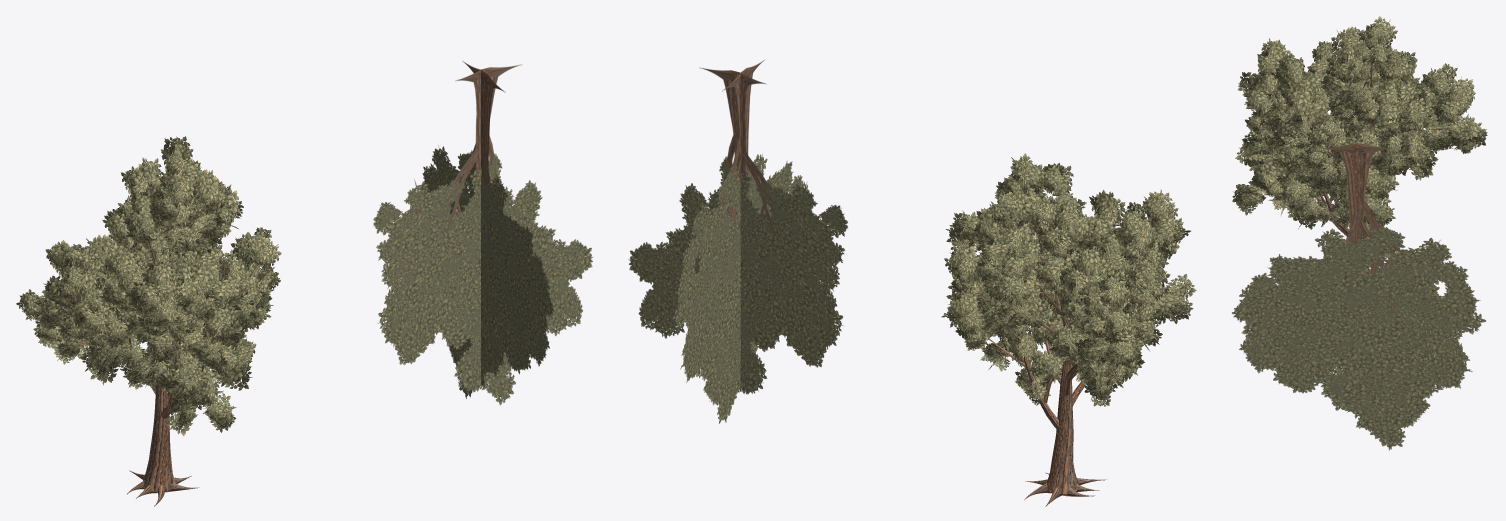
Rendered from tree6.glb.
3 views of the same model, side by side, from view 1: azimuth 30°, elevation 25°; view 2: azimuth 150°, elevation 25°; view 3: azimuth 270°, elevation 25° (orthographic). The views are drawn at different scales.
Parts seen in each view (by area): view 1: Leaves_LOD0.005, Empty.020, Branches_LOD0.005; view 2: Leaves_LOD0.005, Empty.020, Branches_LOD0.005; view 3: Empty.020, Leaves_LOD0.005, Branches_LOD0.005.
Part boxes in pixels (x1,y1,x2,y2): Leaves_LOD0.005: (16, 136, 281, 435); Empty.020: (373, 61, 593, 405); Branches_LOD0.005: (59, 203, 259, 506); Leaves_LOD0.005: (941, 153, 1196, 406); Empty.020: (628, 60, 847, 423); Branches_LOD0.005: (965, 196, 1157, 506); Empty.020: (1232, 143, 1485, 450); Leaves_LOD0.005: (1232, 16, 1487, 239); Branches_LOD0.005: (1254, 61, 1458, 236).
Size of the model in its own units: 76.86 by 46.94 by 35.68.
Materials: 3 (3 with a texture image).
